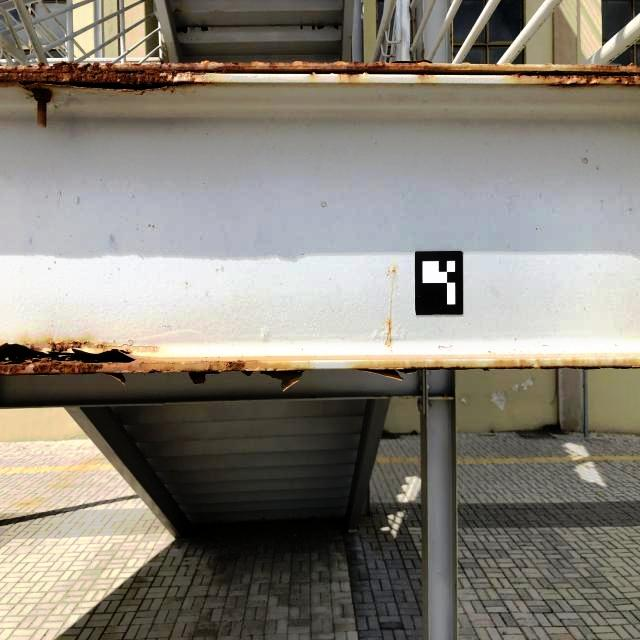Corrosion: (0, 59, 640, 93), (0, 338, 314, 390), (349, 363, 640, 380), (33, 86, 52, 128), (385, 319, 392, 346), (449, 23, 453, 60), (175, 26, 188, 34), (421, 41, 425, 62), (443, 393, 449, 400), (174, 7, 181, 13), (201, 27, 209, 31), (317, 25, 323, 30), (385, 395, 392, 399), (334, 25, 339, 30), (311, 25, 315, 30), (180, 42, 184, 47), (375, 395, 383, 397), (300, 26, 303, 30), (399, 395, 403, 397)
